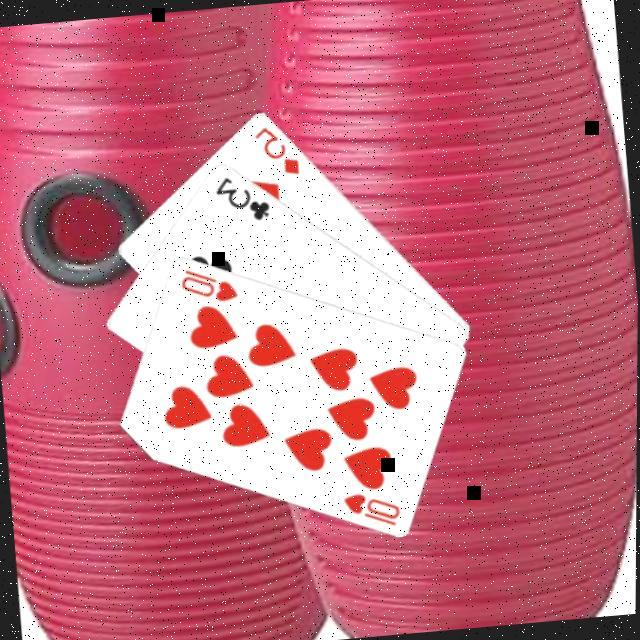10H: (341, 484, 406, 531), (178, 261, 243, 307)
3C: (212, 167, 276, 226)
5D: (251, 119, 305, 180)
